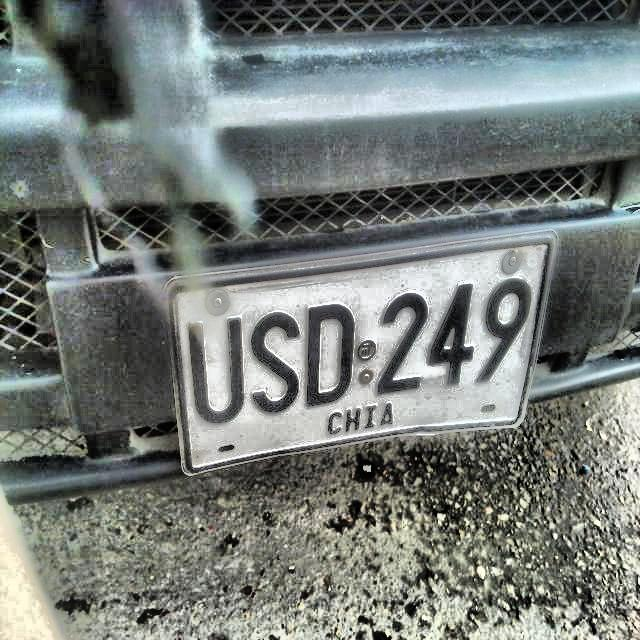plate: (175, 242, 548, 471)
